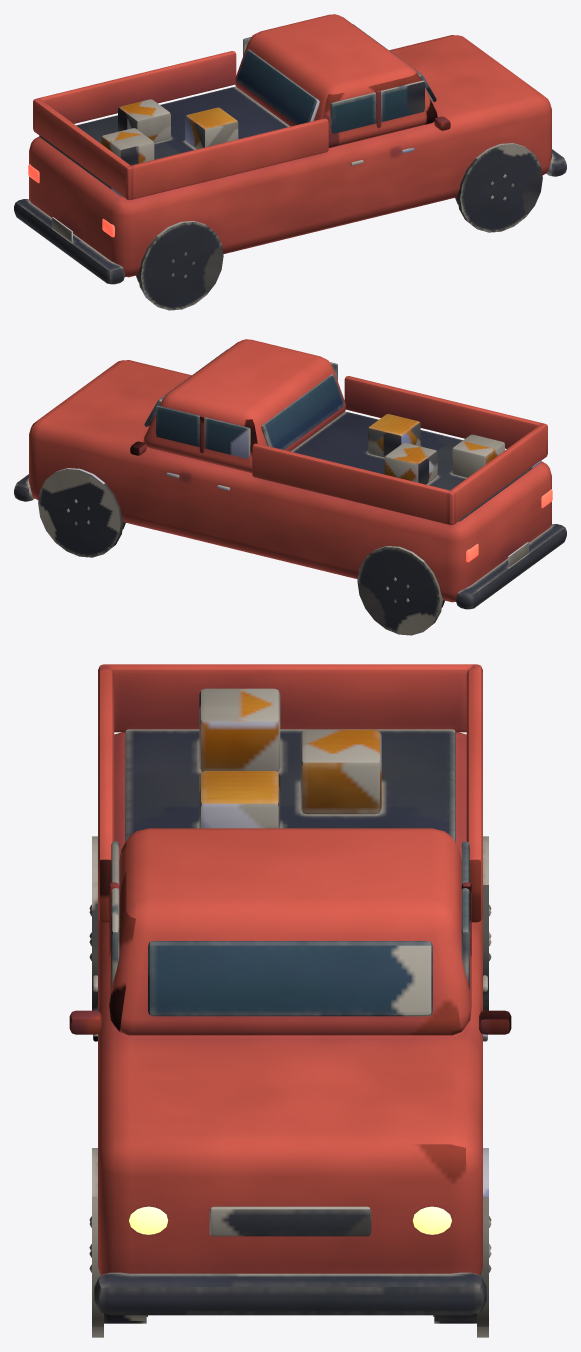
File: car_pickup.glb
3 renders of one model, top to bottom at view 1: azimuth 30°, elevation 25°; view 2: azimuth 150°, elevation 25°; view 3: azimuth 270°, elevation 25°, orthographic. The views are drawn at different scales.
Parts seen in each view (by area): view 1: Body; view 2: Body; view 3: Body.
Part boxes in pixels (x1,y1,x2,y2): Body: (14, 14, 566, 310); Body: (14, 339, 566, 635); Body: (69, 664, 511, 1337).
Size of what is drawn, in the model's own units: 5.26 by 1.9 by 2.18.
4 materials, 2 textured.
